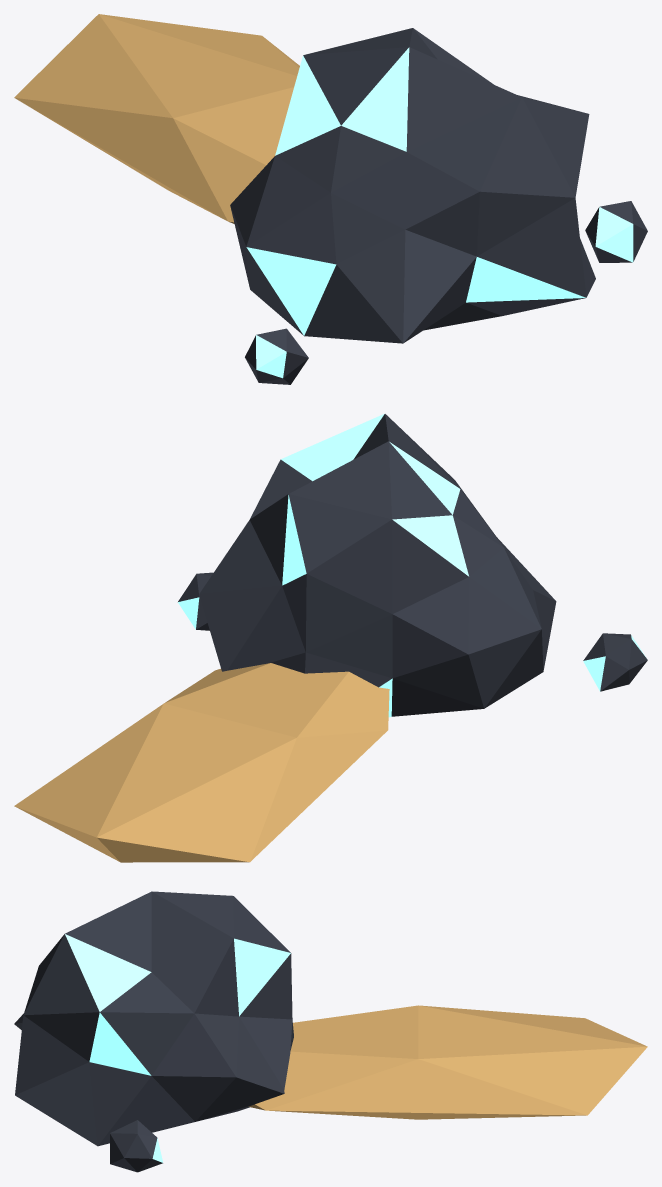
Rendered from Nat_Meteorite_B.fbx.
3 views of the same model, one above another, from view 1: azimuth 30°, elevation 25°; view 2: azimuth 150°, elevation 25°; view 3: azimuth 270°, elevation 25° (orthographic). The views are drawn at different scales.
Visible parts, largest first — view 1: Nat_Meteorite_B; view 2: Nat_Meteorite_B; view 3: Nat_Meteorite_B.
Boxes of the visible parts, <box> form: Nat_Meteorite_B: <box>14,14,647,384</box>; Nat_Meteorite_B: <box>14,413,647,862</box>; Nat_Meteorite_B: <box>14,891,647,1172</box>.
Bounding box in the file's own units: 3.6 × 2.02 × 5.65.
